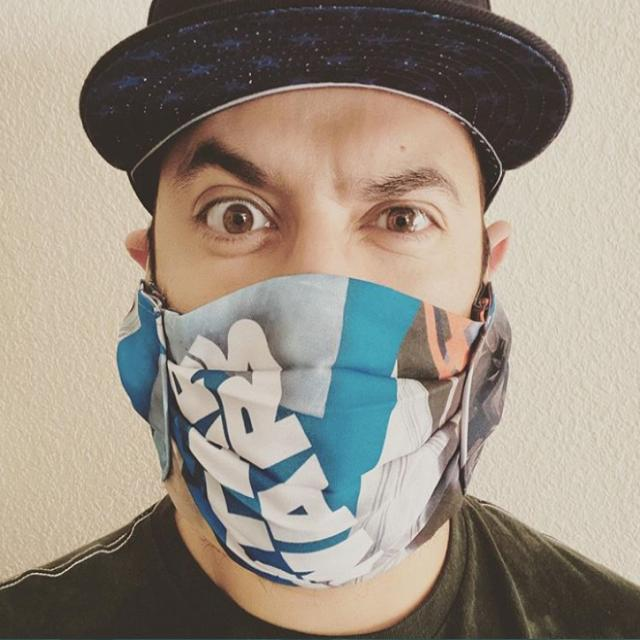hat: (78, 6, 572, 179)
